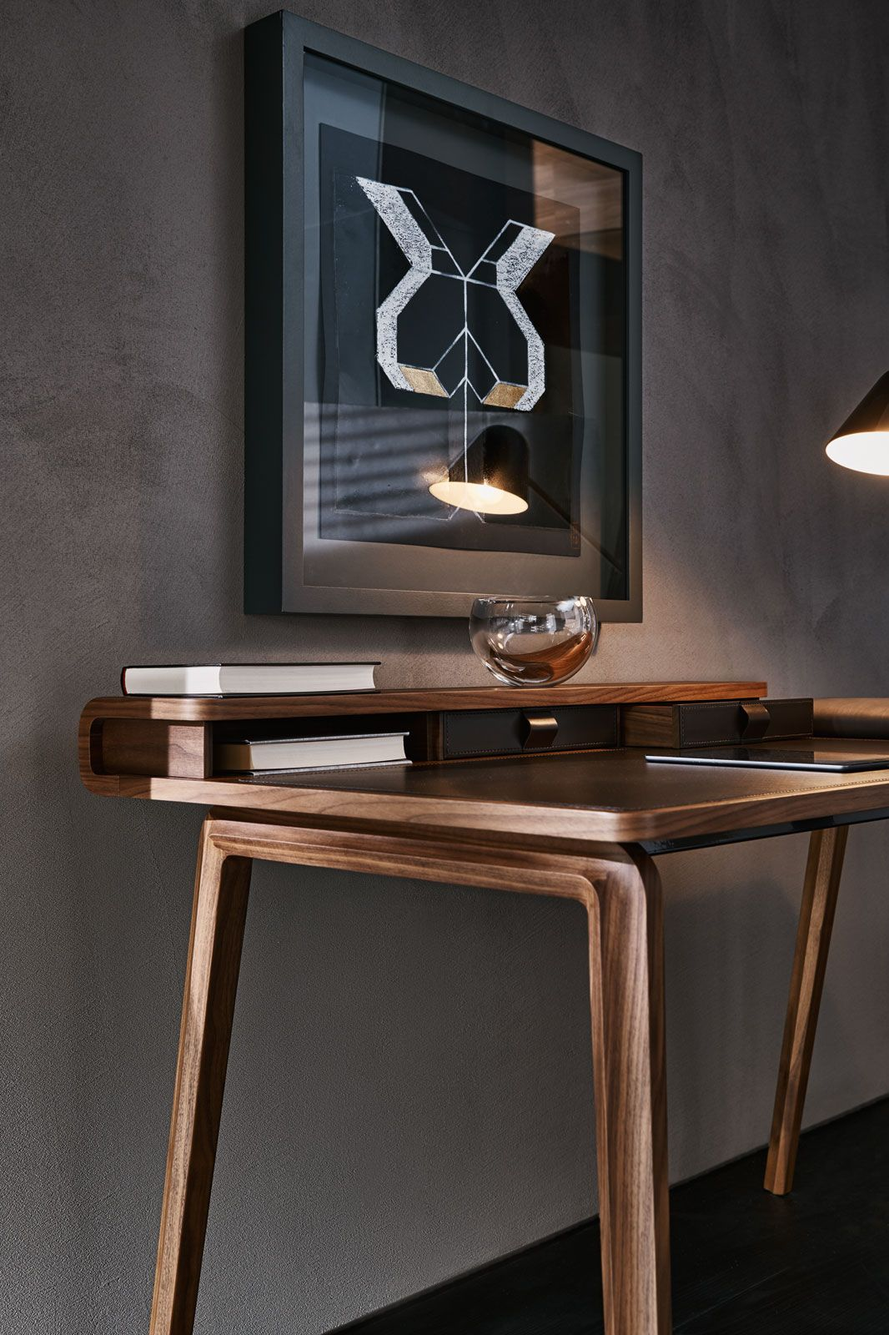not a gesture sign: (0, 0, 486, 1334), (292, 0, 888, 695), (197, 869, 595, 1334), (662, 839, 805, 1177), (807, 829, 888, 1121)
